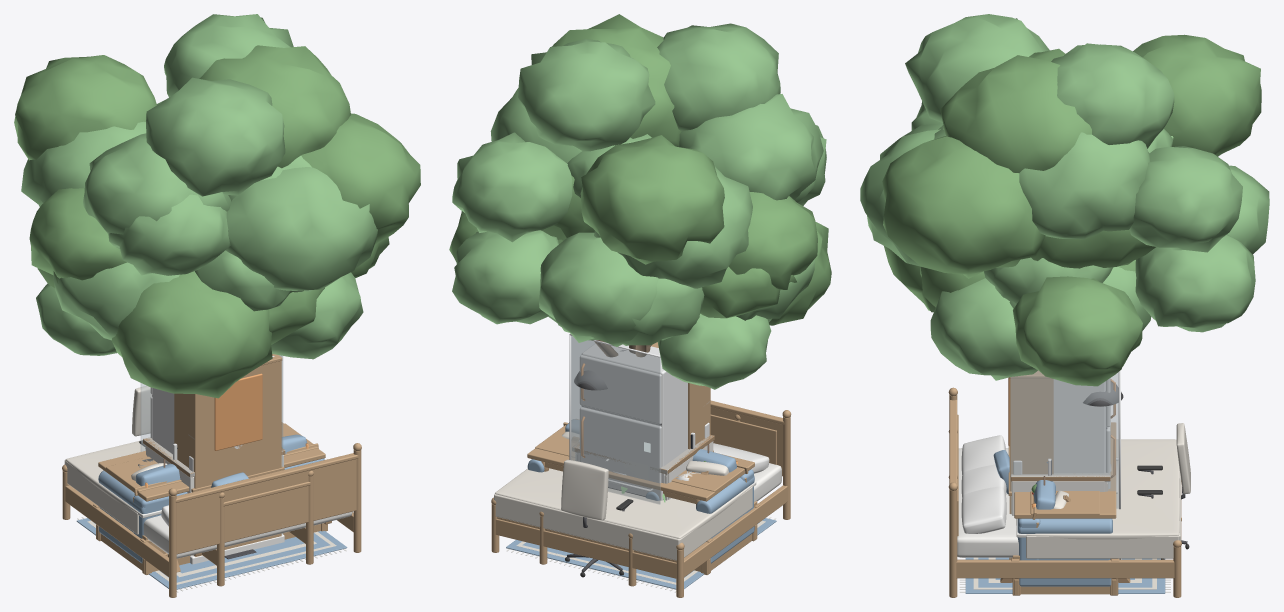
Rendered from furniture.glb.
3 views of the same model, side by side, from view 1: azimuth 30°, elevation 25°; view 2: azimuth 150°, elevation 25°; view 3: azimuth 270°, elevation 25° (orthographic). The views are drawn at different scales.
Parts seen in each view (by area): view 1: tree_mesh, bed-double_mesh, bookshelf_mesh, bed-twin_mesh, rug_mesh, bath-sink_mesh, sofa_mesh, shower_mesh, dining-table_mesh, fridge_mesh, picnic_mesh, computer_mesh (+2 smaller); view 2: tree_mesh, bed-double_mesh, shower_mesh, fridge_mesh, bed-twin_mesh, computer_mesh, sofa_mesh, rug_mesh, dining-table_mesh, picnic_mesh, bookshelf_mesh, counter_mesh (+4 smaller); view 3: tree_mesh, bed-double_mesh, shower_mesh, fridge_mesh, bookshelf_mesh, sofa_mesh, rug_mesh, dining-table_mesh, picnic_mesh, garden_mesh, counter_mesh, computer_mesh (+1 smaller).
Boxes of the visible parts, bbox=[...] form: tree_mesh: bbox=[14, 14, 420, 398]; bed-double_mesh: bbox=[62, 440, 361, 597]; bookshelf_mesh: bbox=[174, 354, 282, 556]; bed-twin_mesh: bbox=[201, 471, 313, 586]; rug_mesh: bbox=[76, 517, 347, 592]; bath-sink_mesh: bbox=[214, 373, 262, 450]; sofa_mesh: bbox=[98, 434, 324, 563]; shower_mesh: bbox=[140, 355, 284, 564]; dining-table_mesh: bbox=[98, 422, 325, 501]; fridge_mesh: bbox=[150, 356, 274, 454]; picnic_mesh: bbox=[106, 423, 331, 572]; computer_mesh: bbox=[132, 385, 284, 492]; tree_mesh: bbox=[449, 14, 831, 389]; bed-double_mesh: bbox=[491, 400, 791, 597]; shower_mesh: bbox=[569, 333, 709, 504]; fridge_mesh: bbox=[579, 343, 687, 483]; bed-twin_mesh: bbox=[539, 414, 740, 586]; computer_mesh: bbox=[561, 450, 713, 577]; sofa_mesh: bbox=[527, 419, 754, 563]; rug_mesh: bbox=[506, 517, 776, 592]; dining-table_mesh: bbox=[527, 419, 754, 506]; picnic_mesh: bbox=[535, 425, 745, 493]; bookshelf_mesh: bbox=[651, 342, 710, 449]; counter_mesh: bbox=[572, 434, 714, 500]; tree_mesh: bbox=[860, 14, 1269, 386]; bed-double_mesh: bbox=[948, 387, 1181, 597]; shower_mesh: bbox=[1009, 370, 1121, 559]; fridge_mesh: bbox=[1053, 378, 1115, 488]; bookshelf_mesh: bbox=[1009, 370, 1053, 559]; sofa_mesh: bbox=[1017, 480, 1112, 586]; rug_mesh: bbox=[959, 557, 1170, 593]; dining-table_mesh: bbox=[1014, 422, 1116, 518]; picnic_mesh: bbox=[1000, 491, 1130, 582]; garden_mesh: bbox=[1011, 476, 1119, 595]; counter_mesh: bbox=[1011, 464, 1111, 515]; computer_mesh: bbox=[1008, 423, 1190, 559].
Size of the model in its own units: 3.59 by 4.97 by 3.53.
